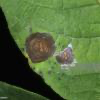Potato leaf early blight: (1, 1, 99, 98)
